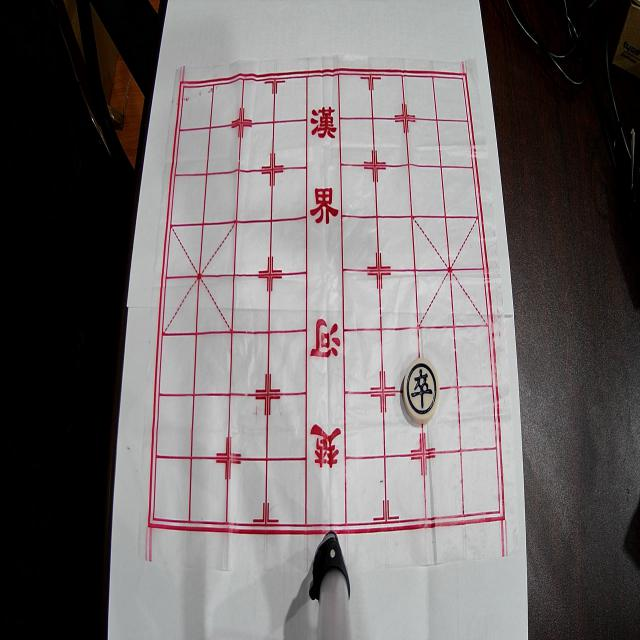black-soldier: (404, 358, 439, 424)
